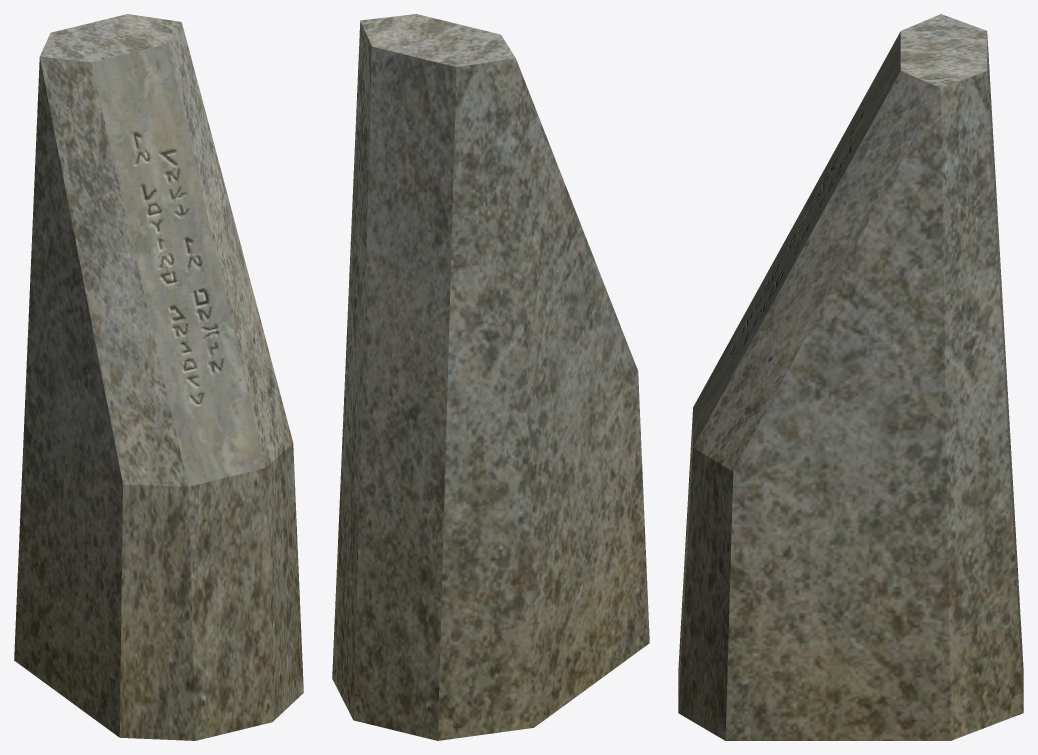
Rendered from thm_all_gravestone_s01_l0.fbx.
3 views of the same model, side by side, from view 1: azimuth 30°, elevation 25°; view 2: azimuth 150°, elevation 25°; view 3: azimuth 270°, elevation 25° (orthographic). The views are drawn at different scales.
Visible parts, largest first — view 1: mesh_node; view 2: mesh_node; view 3: mesh_node.
Part boxes in pixels (x1=…): mesh_node: x1=14, y1=14, x2=303, y2=740; mesh_node: x1=332, y1=14, x2=649, y2=740; mesh_node: x1=678, y1=14, x2=1023, y2=740.
Bounding box in the file's own units: 0.2046 × 0.6395 × 0.312.
